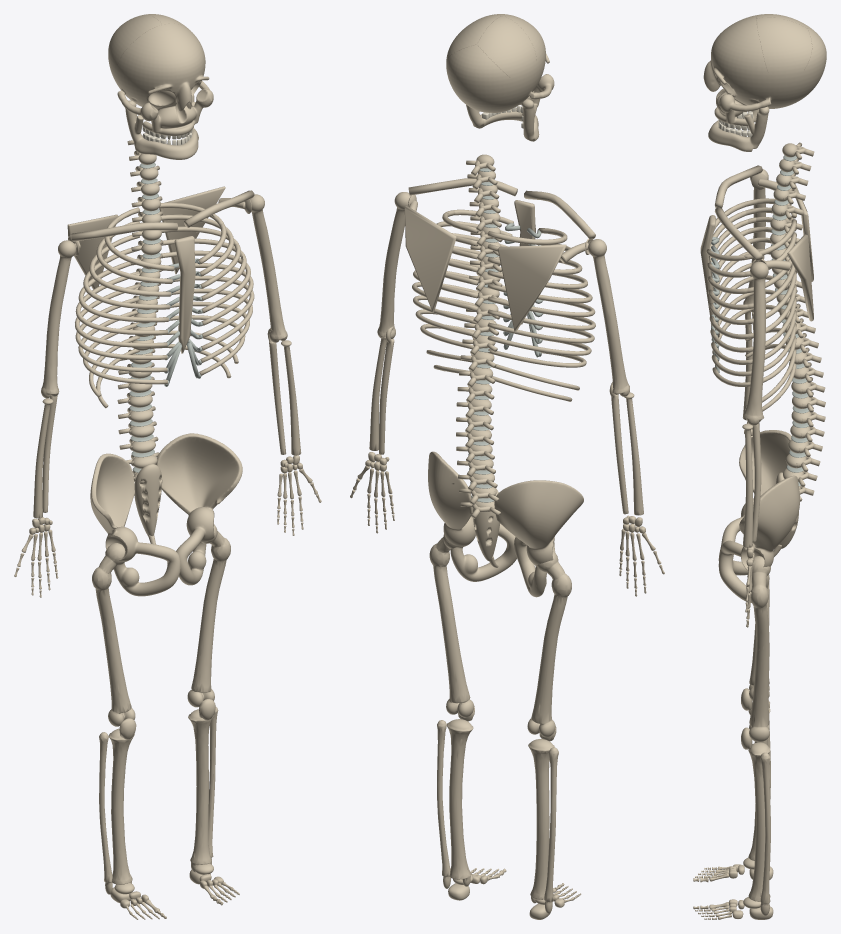
File: lab-skeleton-v11-ultra.glb
The picture shows the model from 3 angles, left to right: view 1: azimuth 30°, elevation 25°; view 2: azimuth 150°, elevation 25°; view 3: azimuth 270°, elevation 25°; orthographic projection. The views are drawn at different scales.
Parts seen in each view (by area): view 1: skeleton-region-rib-cage, skeleton-region-pelvis, skeleton-skull-v8, skeleton-region-spine, skeleton-right-leg-v10, skeleton-left-leg-v10, skeleton-region-shoulder-girdle, skeleton-right-arm-v10, skeleton-left-arm-v10, skeleton-right-hand-v11, skeleton-left-hand-v11, skeleton-right-foot-v11 (+1 smaller); view 2: skeleton-region-rib-cage, skeleton-region-pelvis, skeleton-skull-v8, skeleton-region-spine, skeleton-region-shoulder-girdle, skeleton-left-leg-v10, skeleton-right-leg-v10, skeleton-right-arm-v10, skeleton-left-arm-v10, skeleton-right-hand-v11, skeleton-left-hand-v11, skeleton-left-foot-v11; view 3: skeleton-skull-v8, skeleton-region-rib-cage, skeleton-region-spine, skeleton-region-pelvis, skeleton-left-leg-v10, skeleton-left-arm-v10, skeleton-region-shoulder-girdle, skeleton-right-arm-v10, skeleton-left-foot-v11, skeleton-right-leg-v10, skeleton-right-foot-v11, skeleton-left-hand-v11.
Boxes of the visible parts, left/top/right/bottom form: skeleton-region-rib-cage: left=75, top=202, right=254, bottom=408; skeleton-region-pelvis: left=90, top=433, right=242, bottom=596; skeleton-skull-v8: left=108, top=14, right=213, bottom=159; skeleton-region-spine: left=117, top=135, right=163, bottom=483; skeleton-right-leg-v10: left=92, top=543, right=136, bottom=894; skeleton-left-leg-v10: left=187, top=524, right=230, bottom=872; skeleton-region-shoulder-girdle: left=67, top=186, right=254, bottom=289; skeleton-right-arm-v10: left=33, top=240, right=76, bottom=518; skeleton-left-arm-v10: left=250, top=194, right=301, bottom=455; skeleton-right-hand-v11: left=14, top=517, right=58, bottom=597; skeleton-left-hand-v11: left=277, top=455, right=321, bottom=535; skeleton-right-foot-v11: left=110, top=882, right=166, bottom=919; skeleton-region-rib-cage: left=412, top=200, right=595, bottom=401; skeleton-region-pelvis: left=428, top=451, right=583, bottom=597; skeleton-skull-v8: left=446, top=14, right=554, bottom=141; skeleton-region-spine: left=456, top=154, right=502, bottom=518; skeleton-region-shoulder-girdle: left=404, top=178, right=595, bottom=332; skeleton-left-leg-v10: left=429, top=534, right=474, bottom=888; skeleton-right-leg-v10: left=527, top=551, right=571, bottom=913; skeleton-right-arm-v10: left=588, top=239, right=643, bottom=515; skeleton-left-arm-v10: left=369, top=192, right=410, bottom=454; skeleton-right-hand-v11: left=619, top=515, right=664, bottom=596; skeleton-left-hand-v11: left=350, top=452, right=394, bottom=533; skeleton-left-foot-v11: left=448, top=868, right=506, bottom=900; skeleton-skull-v8: left=703, top=14, right=826, bottom=151; skeleton-region-rib-cage: left=700, top=198, right=796, bottom=419; skeleton-region-spine: left=770, top=142, right=825, bottom=501; skeleton-region-pelvis: left=718, top=430, right=799, bottom=602; skeleton-left-leg-v10: left=741, top=556, right=770, bottom=915; skeleton-left-arm-v10: left=742, top=261, right=768, bottom=547; skeleton-region-shoulder-girdle: left=714, top=165, right=813, bottom=321; skeleton-right-arm-v10: left=742, top=169, right=768, bottom=420; skeleton-left-foot-v11: left=693, top=897, right=773, bottom=919; skeleton-right-leg-v10: left=741, top=582, right=770, bottom=860; skeleton-right-foot-v11: left=693, top=857, right=773, bottom=882; skeleton-left-hand-v11: left=744, top=546, right=754, bottom=627.
Size of the model in its own units: 61.85 by 167 by 22.98.
